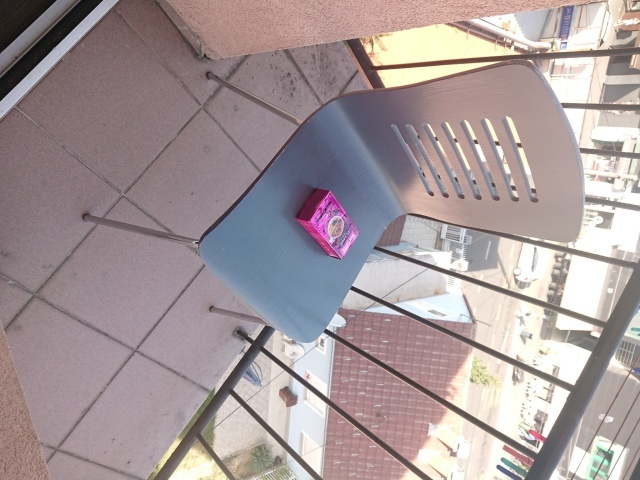Barcaffe Classic Original 225g: (295, 187, 362, 261)
